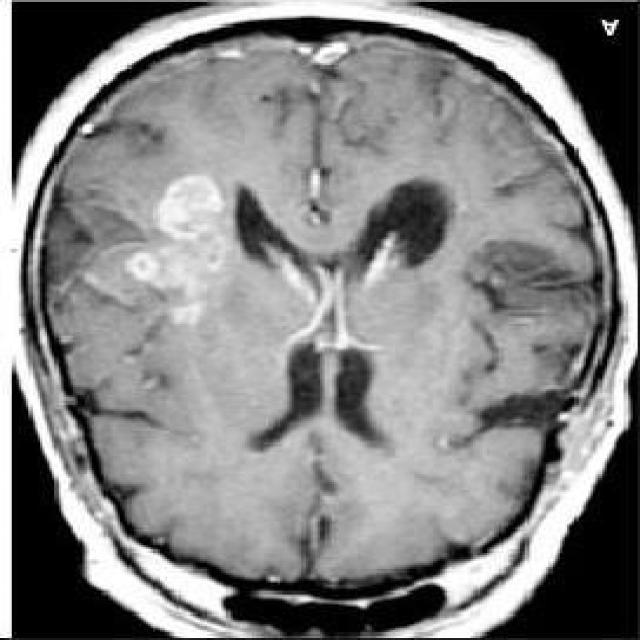brain tumor: (125, 174, 224, 326)
